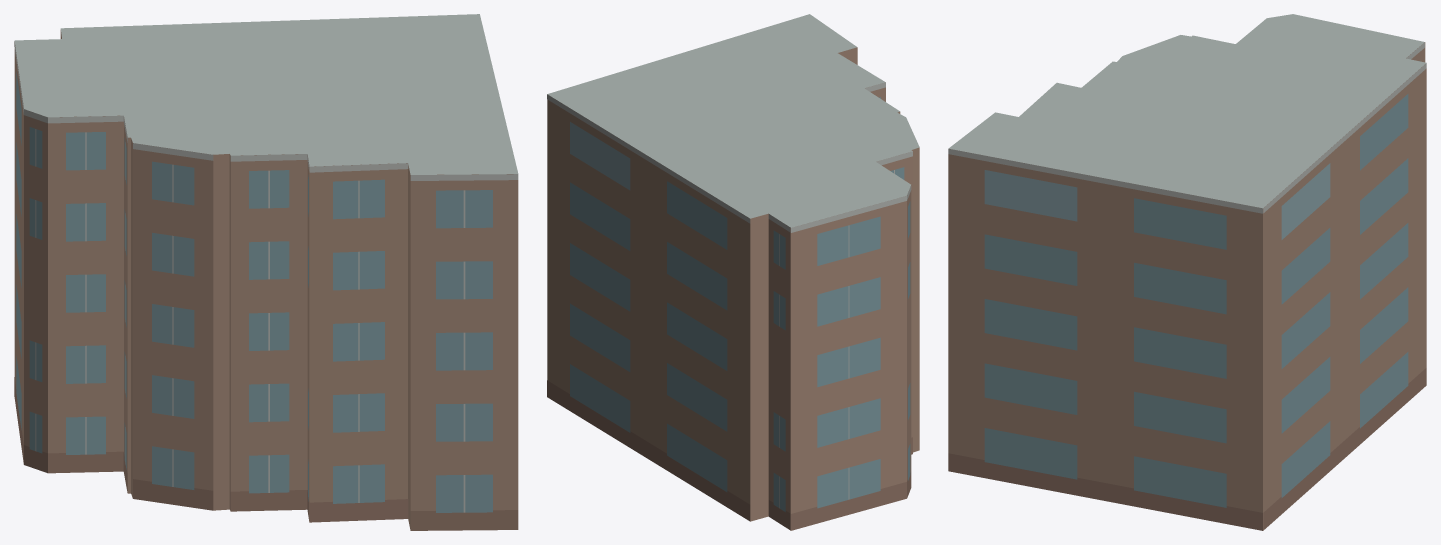
Rendered from survey-upis-32933893.glb.
3 views of the same model, side by side, from view 1: azimuth 30°, elevation 25°; view 2: azimuth 150°, elevation 25°; view 3: azimuth 270°, elevation 25° (orthographic). The views are drawn at different scales.
Visible parts, largest first — view 1: survey-upis-32933893.tmp; view 2: survey-upis-32933893.tmp; view 3: survey-upis-32933893.tmp.
Boxes of the visible parts, bbox=[...] form: survey-upis-32933893.tmp: bbox=[14, 14, 518, 530]; survey-upis-32933893.tmp: bbox=[547, 14, 919, 530]; survey-upis-32933893.tmp: bbox=[948, 14, 1426, 530].
Bounding box in the file's own units: 18.55 × 14.35 × 19.29.
